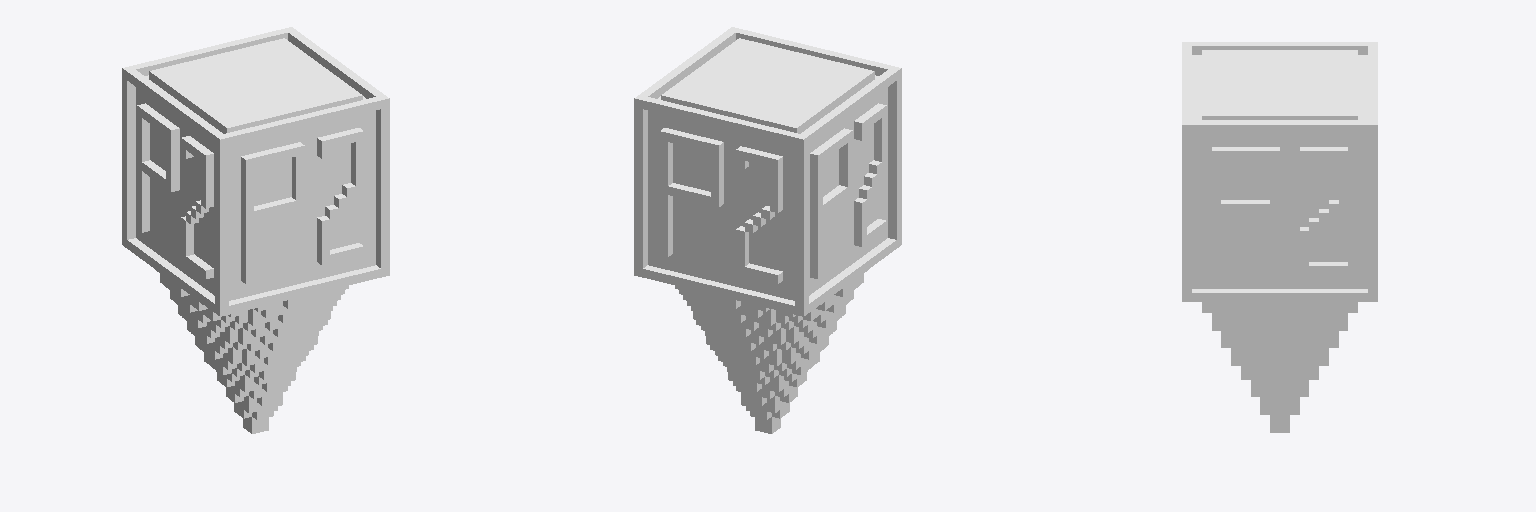
File: player2.obj
3 renders of one model, left to right at view 1: azimuth 30°, elevation 25°; view 2: azimuth 150°, elevation 25°; view 3: azimuth 270°, elevation 25°, orthographic.
Bounding box in the file's own units: 20 × 39 × 20.